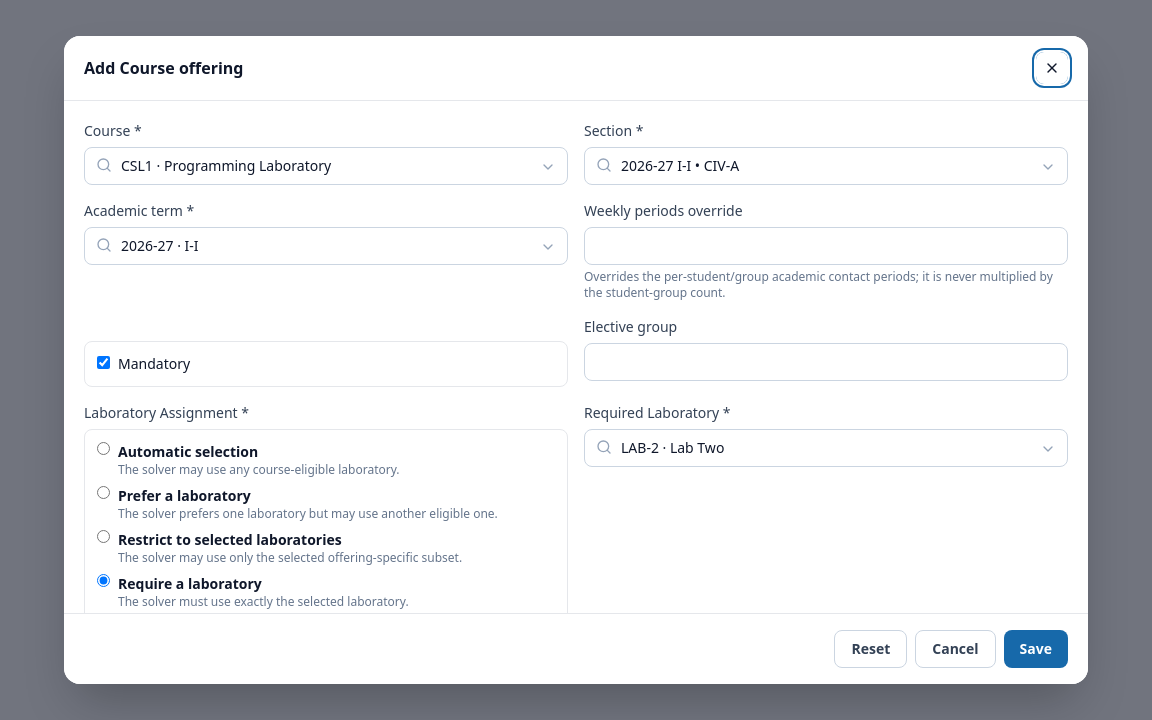
Test: master record form › hides and clears laboratory assignment when the course changes to classroom-only
Expected: the radio button labelled "Require a laboratory" is checked, [97, 574, 110, 587]
Click the dropdown labelled "Course *" at (326, 166), box [84, 147, 568, 185]
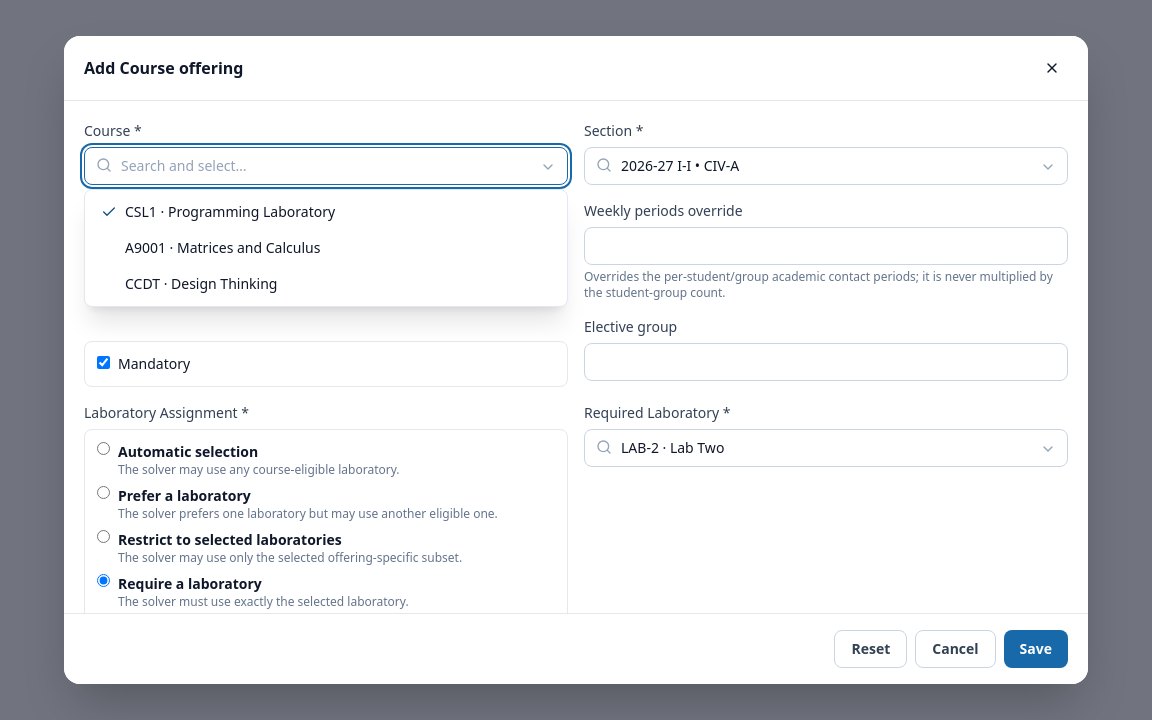
Click the option "A9001 · Matrices and Calculus" at (223, 248), box [89, 230, 563, 266]
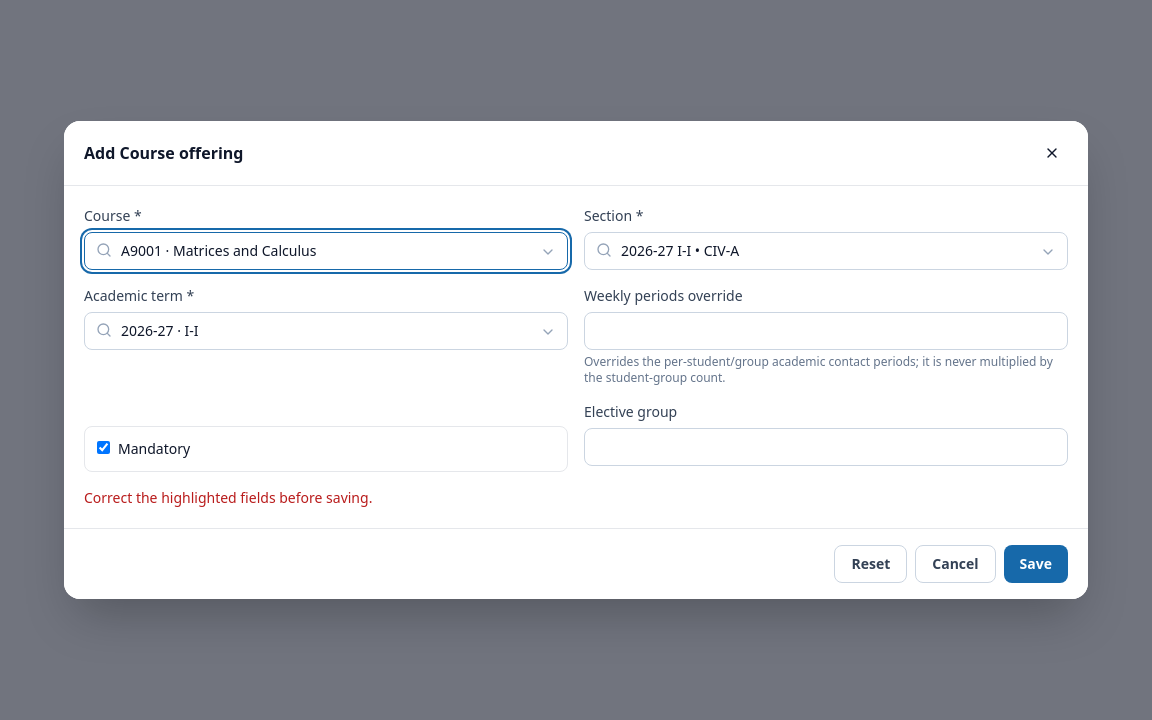
Now the text "Automatic selection" is gone
Now the option "Laboratory" is gone
Click the button "Save" at (1036, 564), box [1004, 545, 1068, 583]
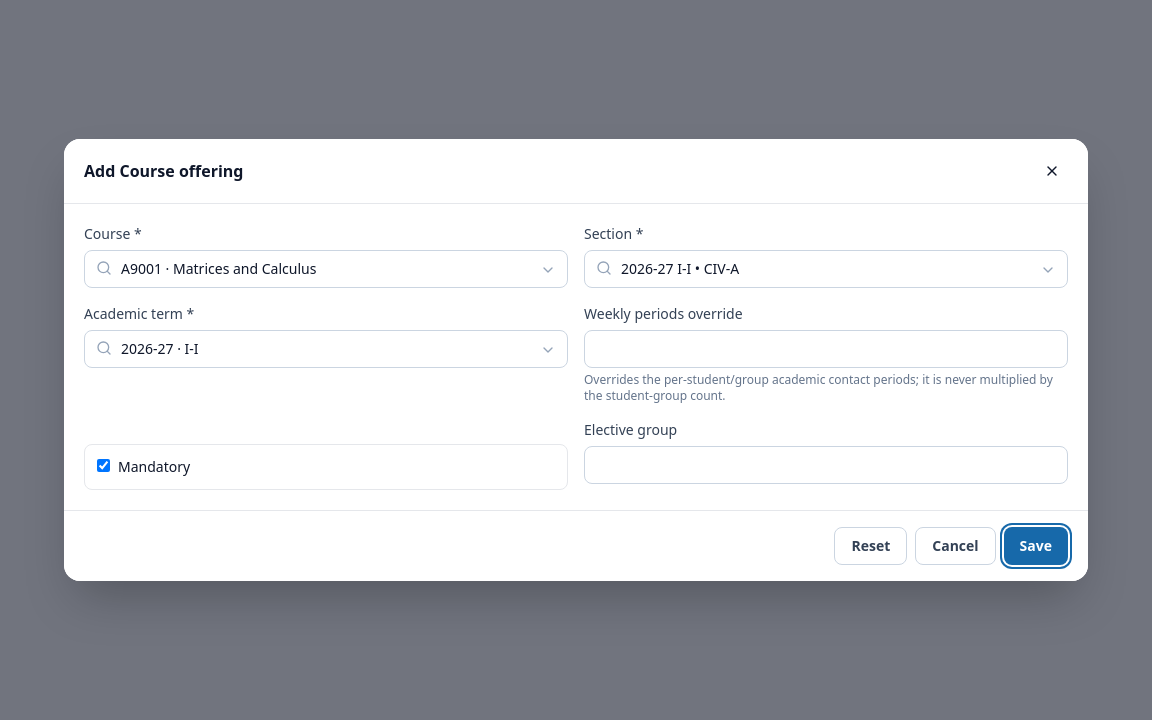
Click the dropdown labelled "Course *" at (326, 269), box [84, 250, 568, 288]
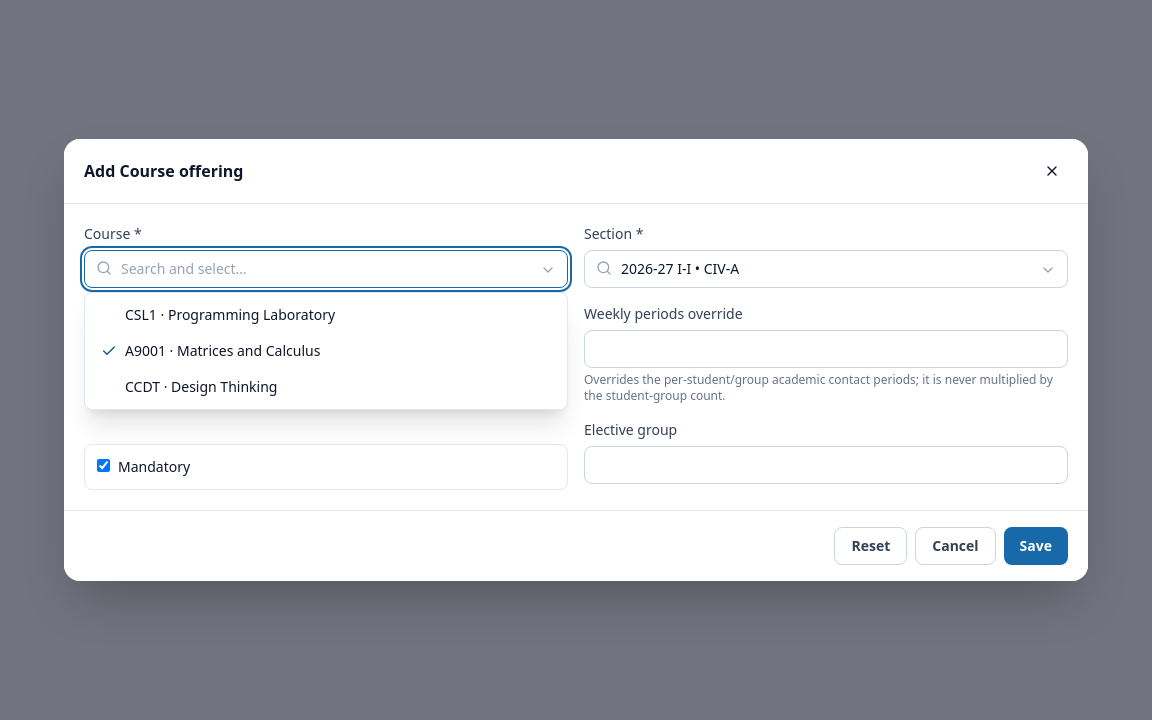
Click the option "CCDT · Design Thinking" at (201, 386), box [89, 369, 563, 405]
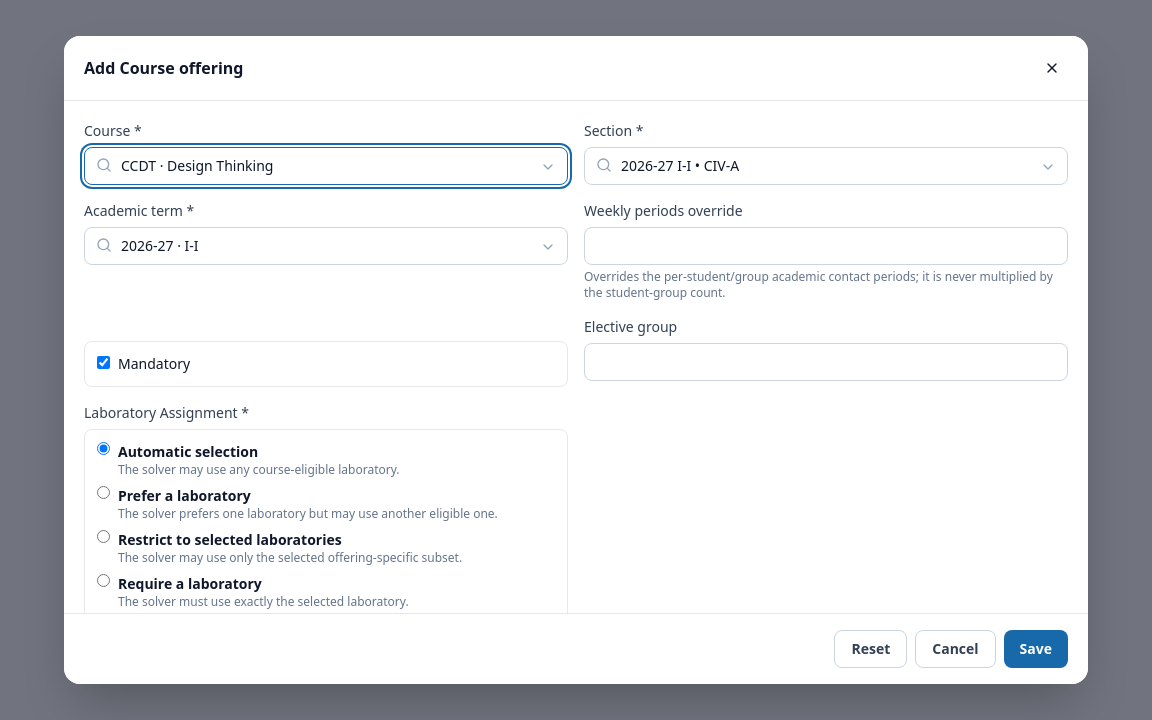
Now the text "Automatic selection" is shown, box [118, 442, 258, 461]
